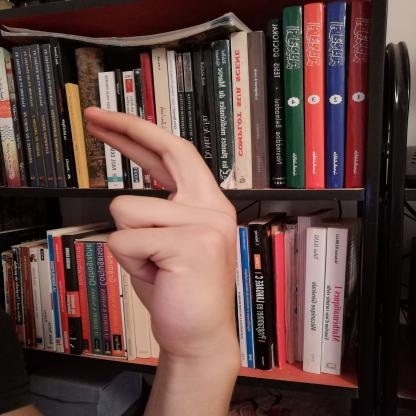ZAY: (72, 96, 254, 368)
